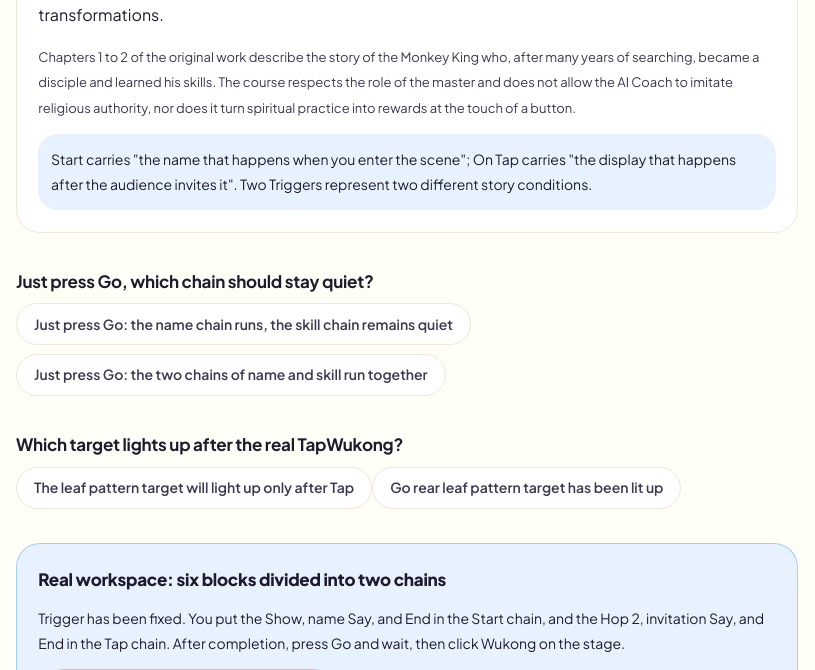
Test: JourneyWestC4Part4Page › requires both predictions and the saved dual-run project before continuing
(page scrolled)
Click the button "Just press Go: the name chain runs, the skill chain remains quiet" at (244, 324), box [16,303,471,345]
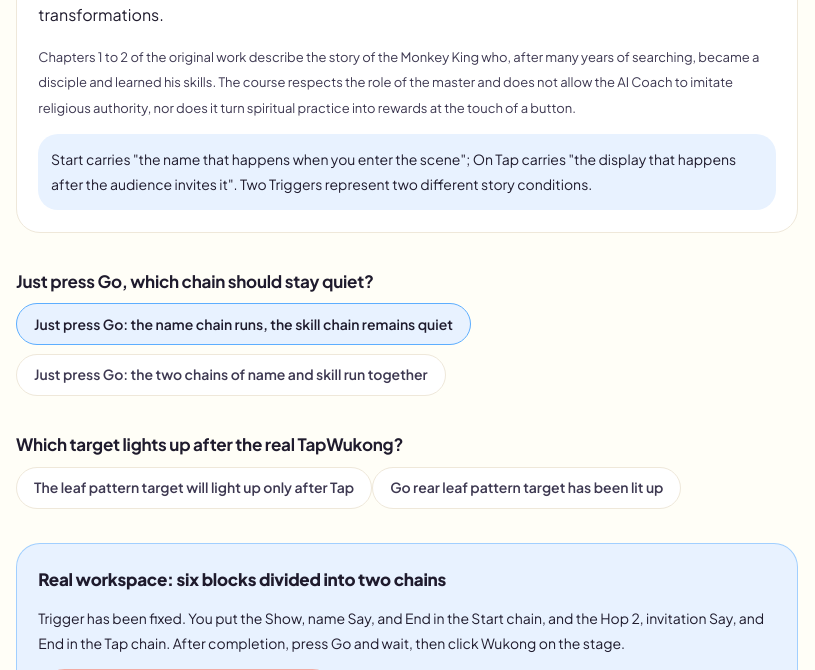
Click the button "The leaf pattern target will light up only after Tap" at (194, 488), box [16,466,372,509]
(page scrolled)
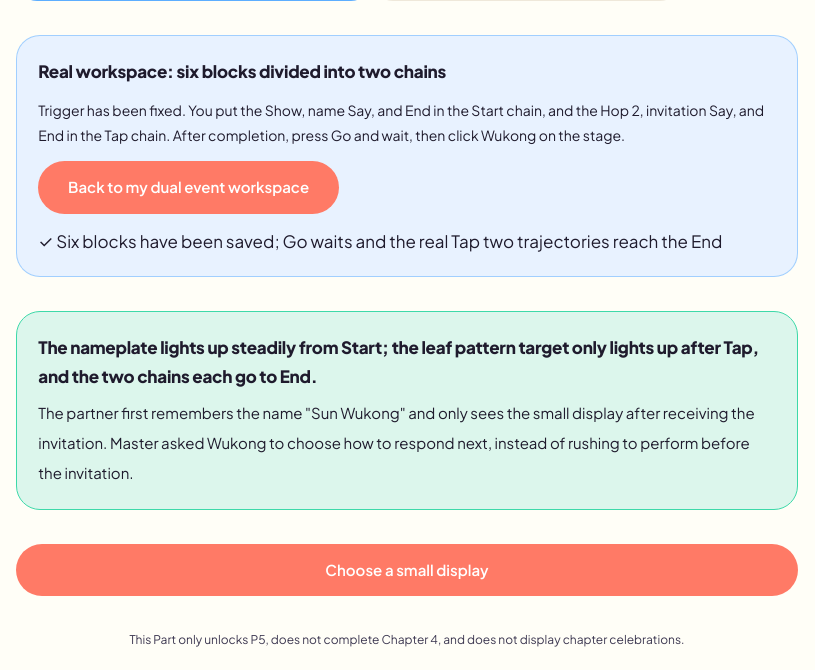
Expected: the button with test id "jtw-c4p4-continue" is enabled, [16,544,798,596]
